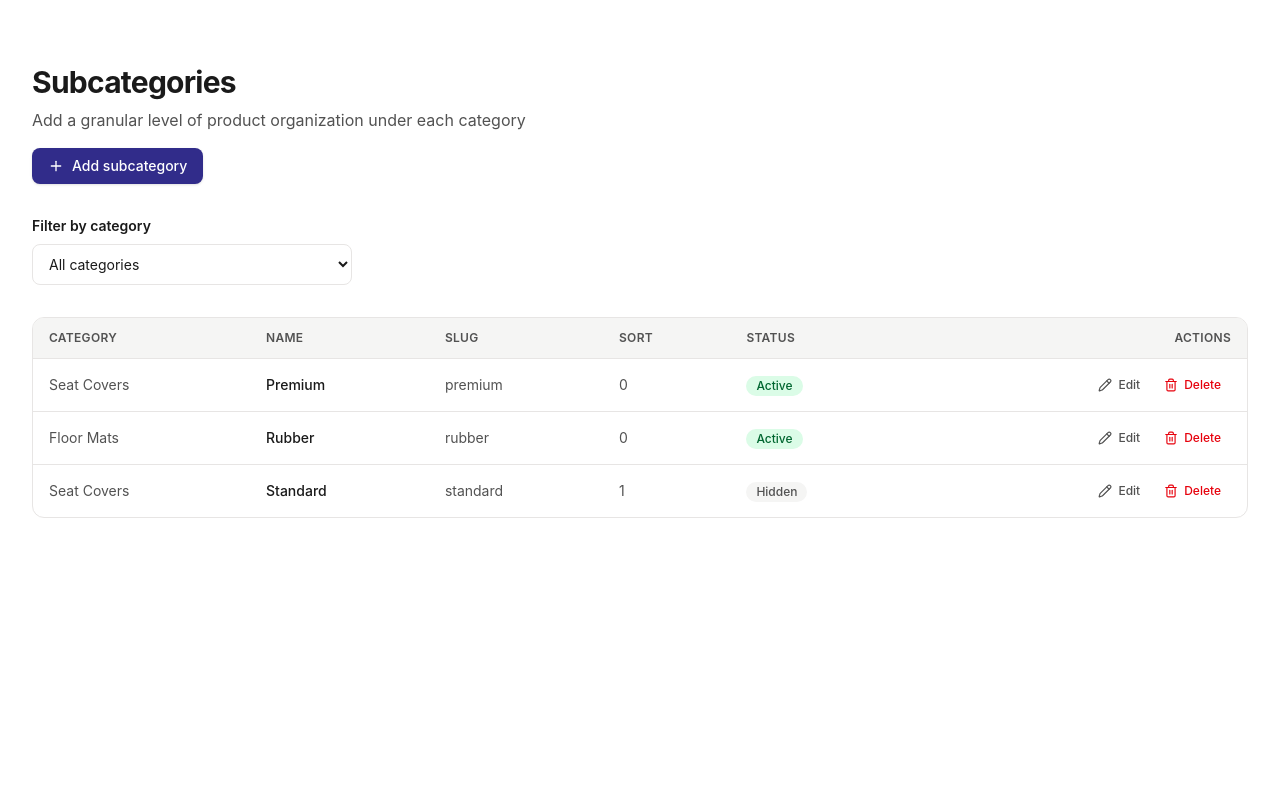
Test: SubcategoriesAdminPage › deletes a subcategory after confirmation
Expected: the text "Premium" is shown, [250,358,429,412]
Click the button "Delete" in the row of "Hidden" at (1193, 491), box [1154,477,1231,505]
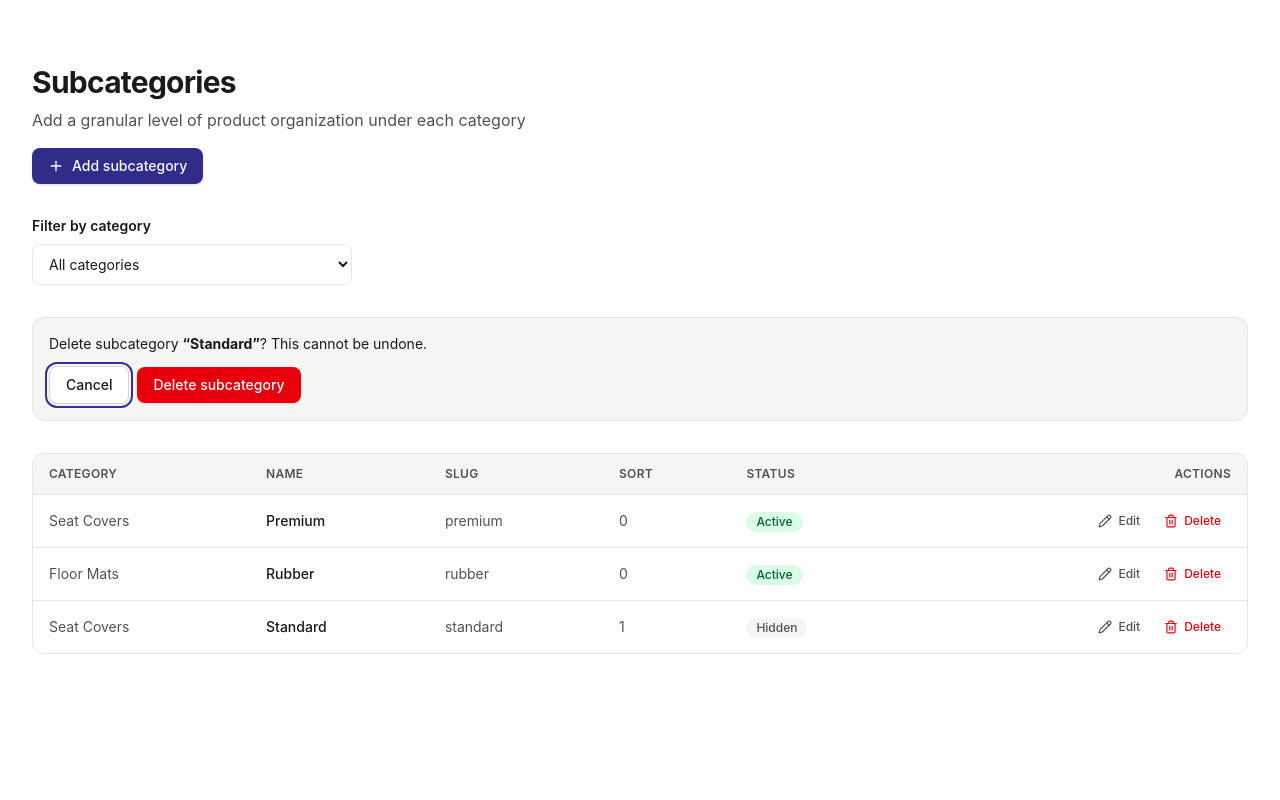
Click the button "Delete subcategory" at (219, 385), box [138,367,301,403]
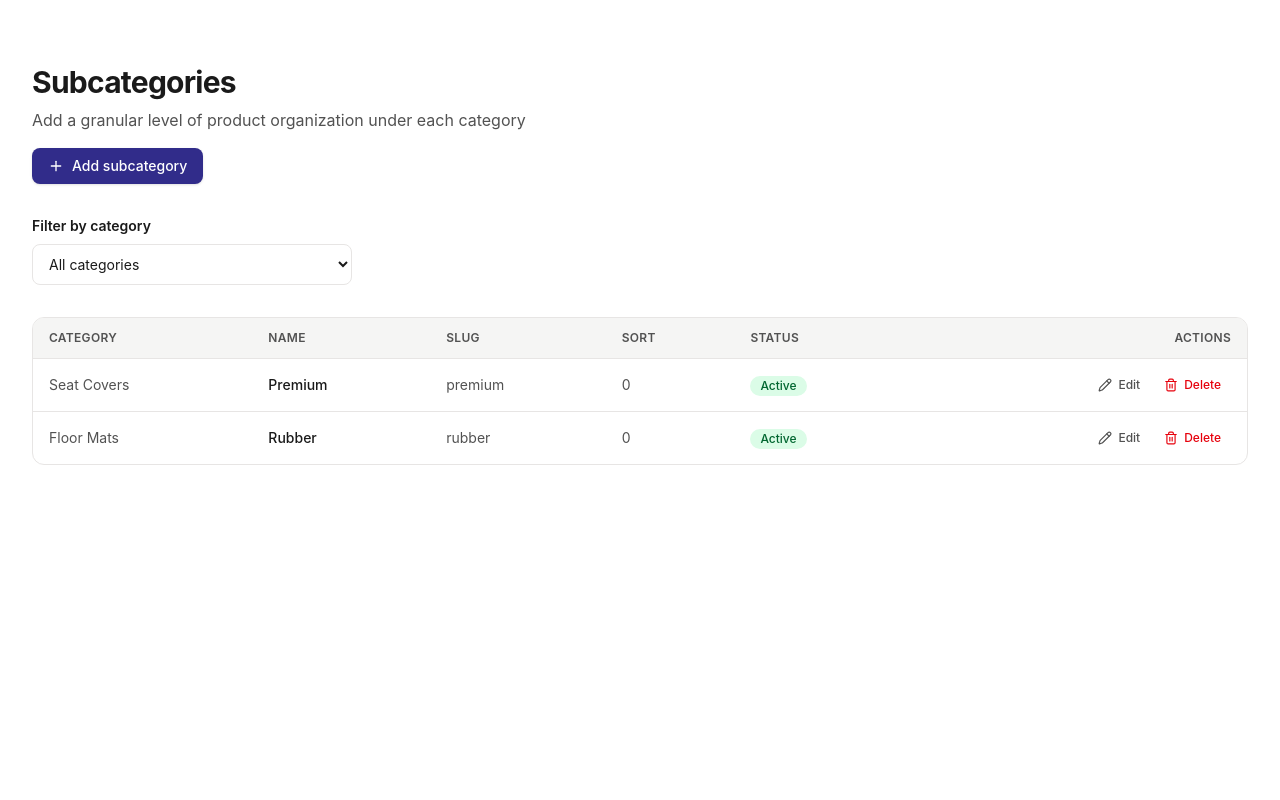
Expected: the text "Standard" is gone
